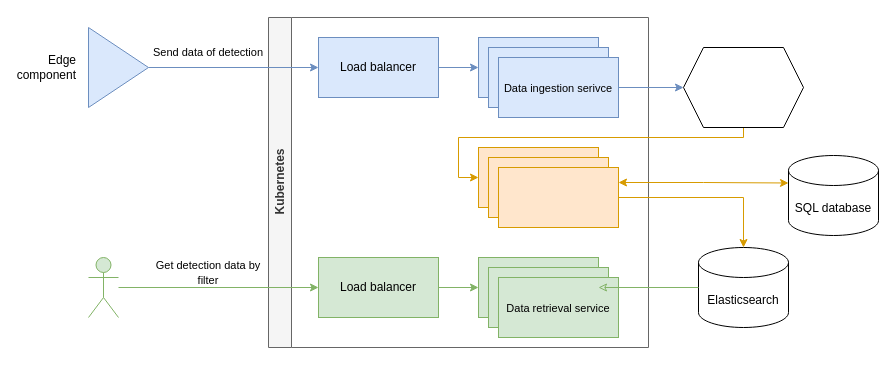
The diagram is 896 pixels wide and 365 high, and some of its shapes have lost their labels. The shapes that lost their labels are listed below. From the top down, each one's centre as x and y in pixels, then its label:
At point 743,87: "Kafka".
At point 558,197: "Kafka processor service".
At point 103,287: "Client".
